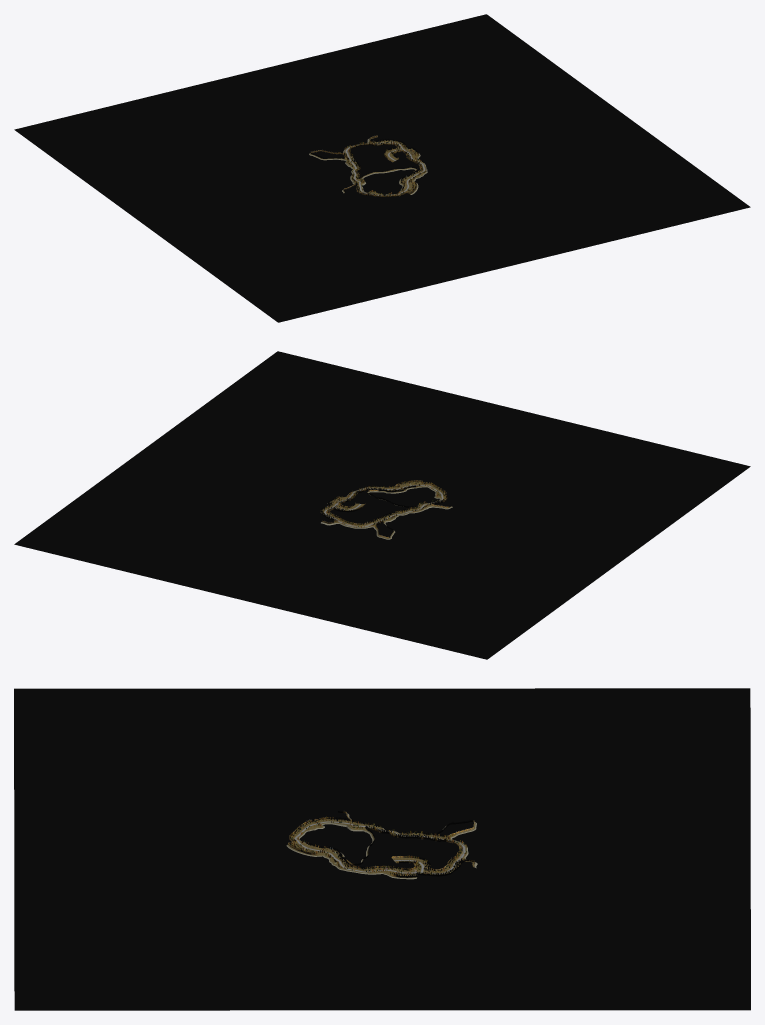
The model's file is finland_stage7_visual.glb.
3 views of the same model, one above another, from view 1: azimuth 30°, elevation 25°; view 2: azimuth 150°, elevation 25°; view 3: azimuth 270°, elevation 25° (orthographic). The views are drawn at different scales.
Visible parts, largest first — view 1: Props_And_Markers, Track_Road_And_Terrain, Foliage_And_Vegetation; view 2: Props_And_Markers, Track_Road_And_Terrain, Foliage_And_Vegetation; view 3: Props_And_Markers, Track_Road_And_Terrain, Foliage_And_Vegetation.
Boxes of the visible parts, x1,y1,x2,y2 form: Props_And_Markers: (14,14,750,322); Track_Road_And_Terrain: (309,135,427,197); Foliage_And_Vegetation: (338,139,426,195); Props_And_Markers: (14,351,750,659); Track_Road_And_Terrain: (320,480,452,539); Foliage_And_Vegetation: (320,480,446,528); Props_And_Markers: (14,688,750,1010); Track_Road_And_Terrain: (286,810,477,879); Foliage_And_Vegetation: (289,816,467,875).
Size of the model in its own units: 3554 by 54.06 by 3437.
Materials: 51 (51 with a texture image).
